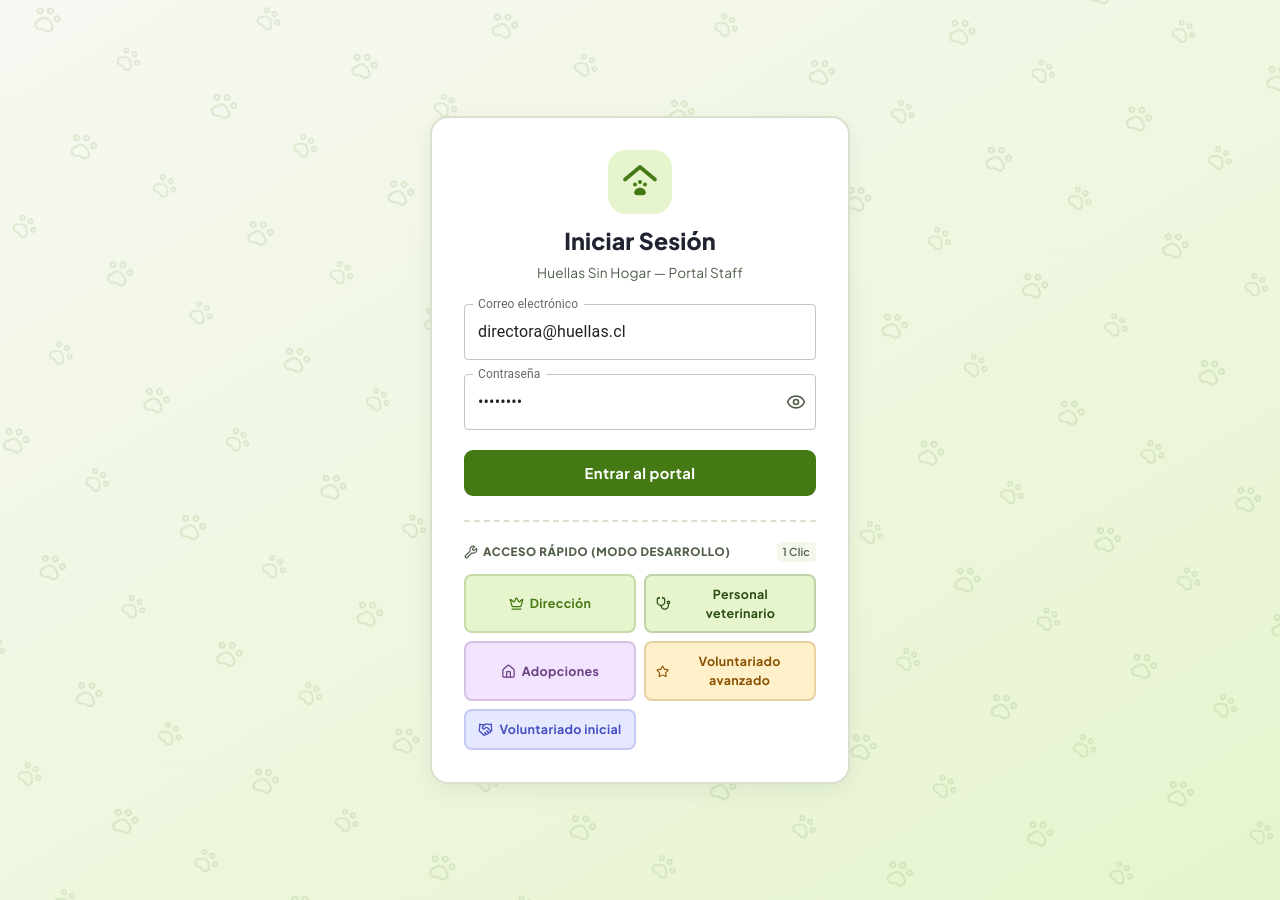
muestra y oculta la contraseña sin borrar el valor ni enviar el formulario
The image size is (1280, 900).
Step 1. Type "clave-de-prueba" into the password field labelled "Contraseña" → [621, 402], box [464, 374, 778, 430]
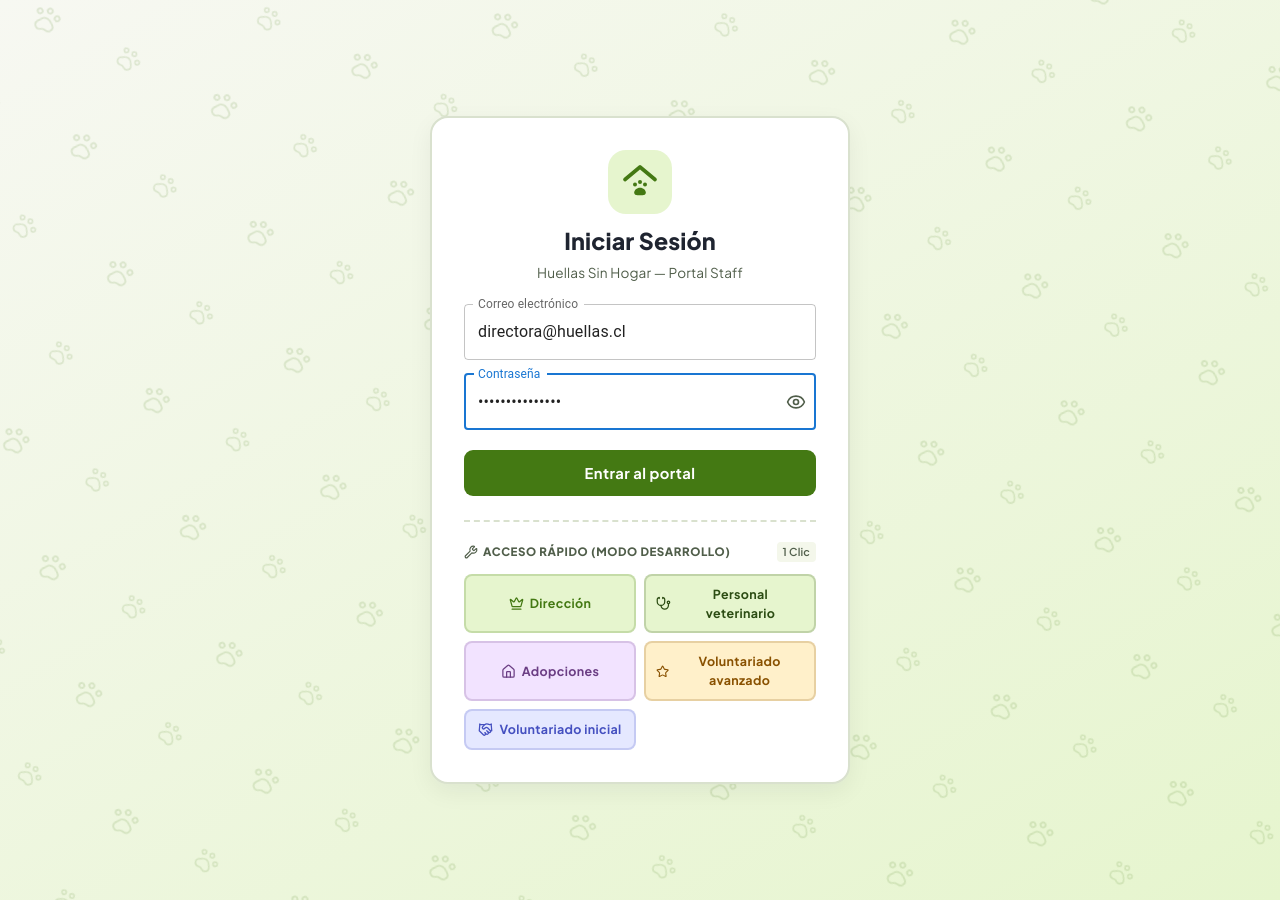
Step 2. Click the button named "Mostrar contraseña" → [796, 402], box [778, 384, 814, 420]
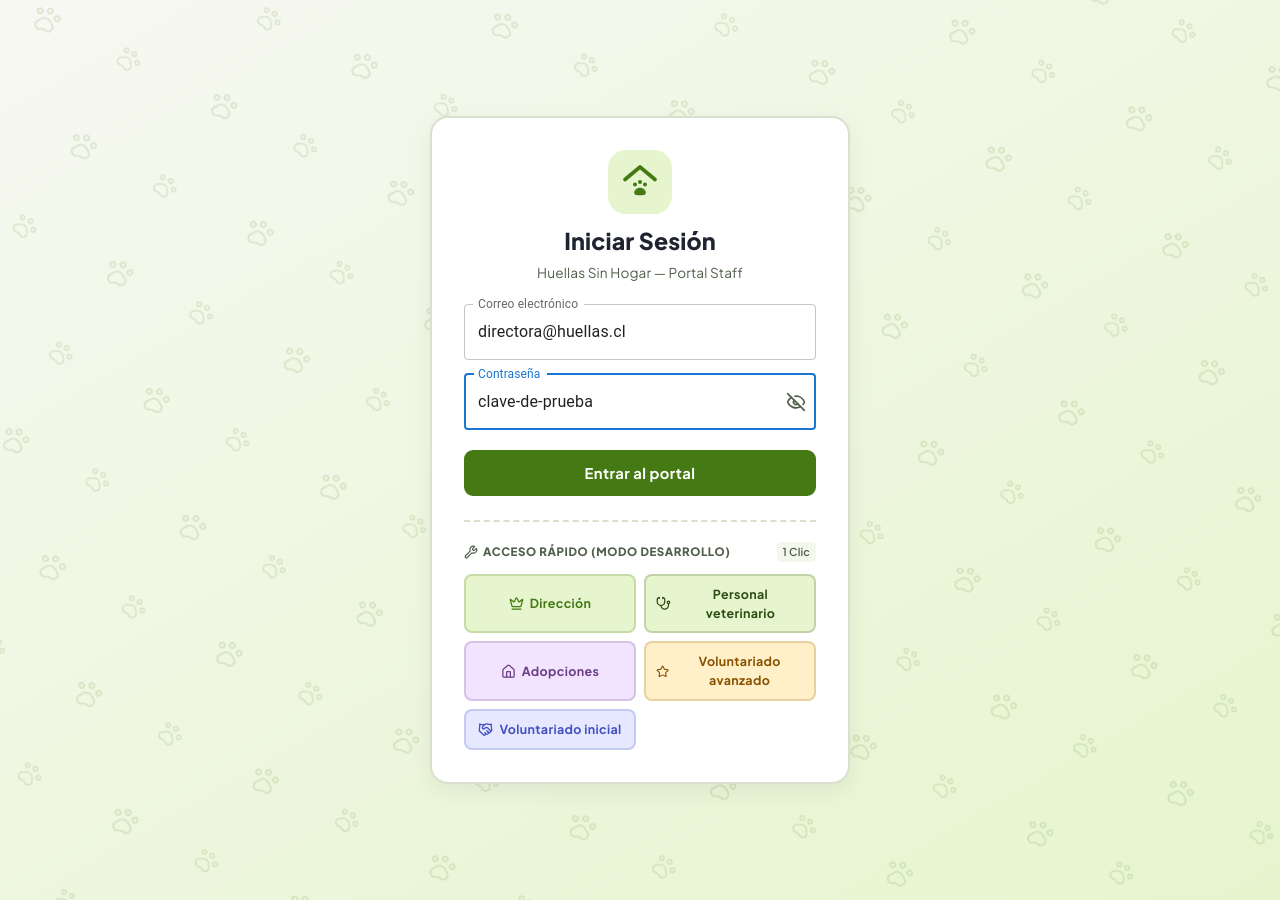
Now the field labelled "Contraseña" shows its text, box [464, 374, 778, 430]
Step 3. Click the button named "Ocultar contraseña" → [796, 402], box [778, 384, 814, 420]
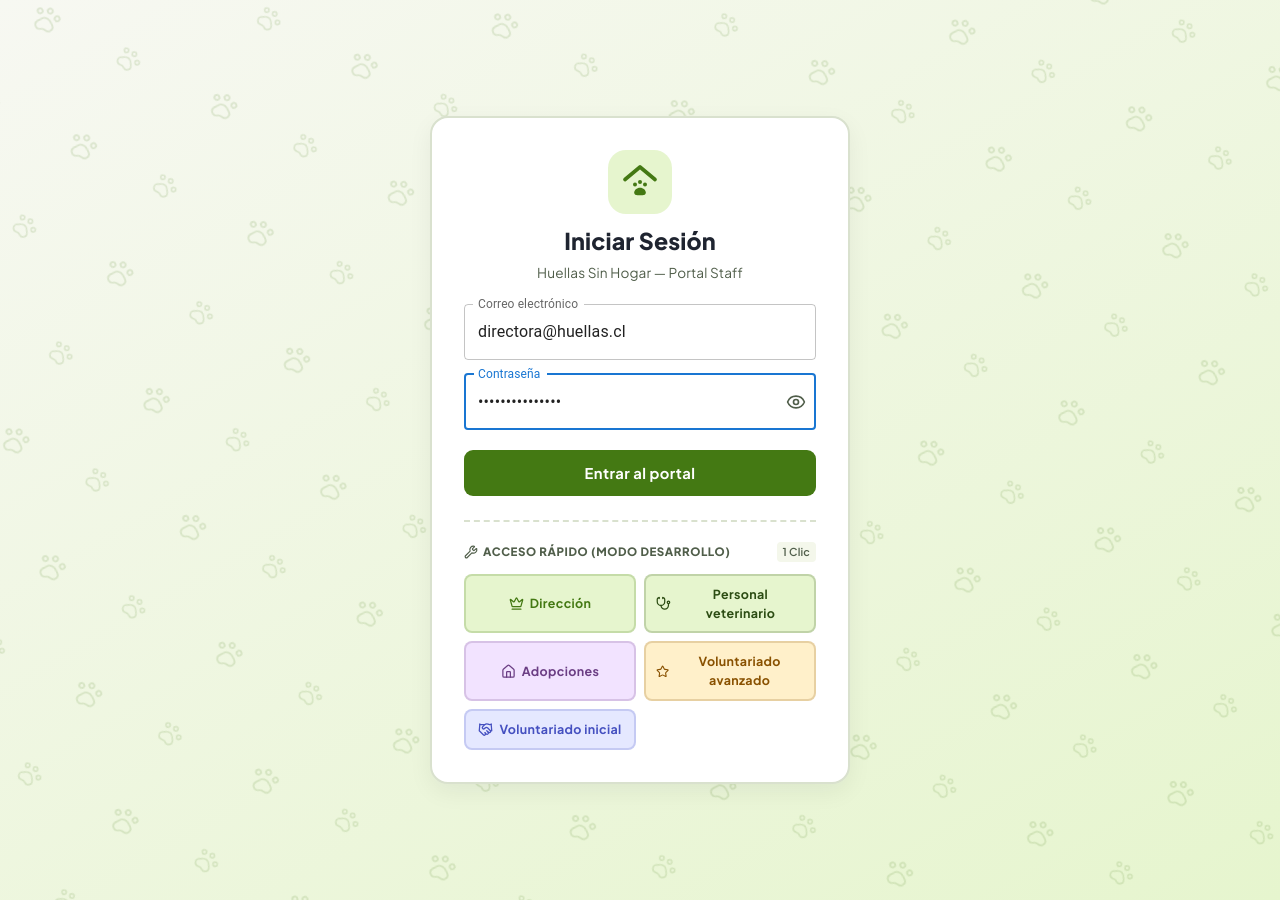
Now the password field labelled "Contraseña" hides its text, box [464, 374, 778, 430]
